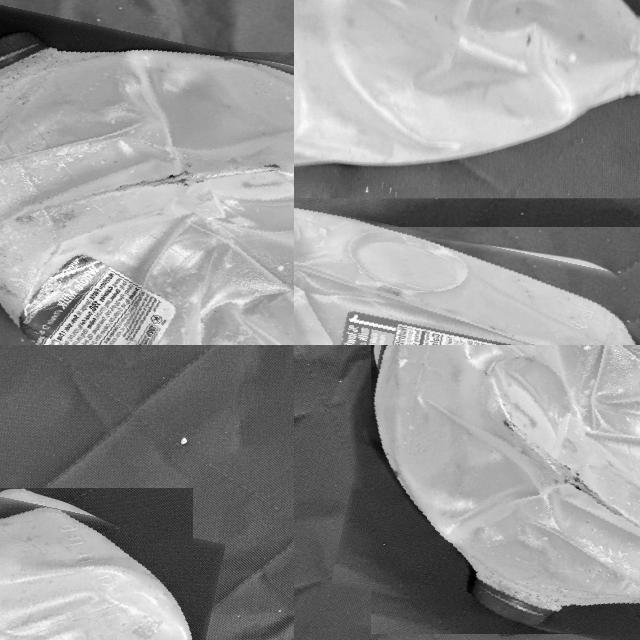milk-jug: (0, 25, 294, 345), (351, 345, 640, 640), (294, 0, 640, 160), (294, 199, 640, 345), (0, 463, 208, 640)
